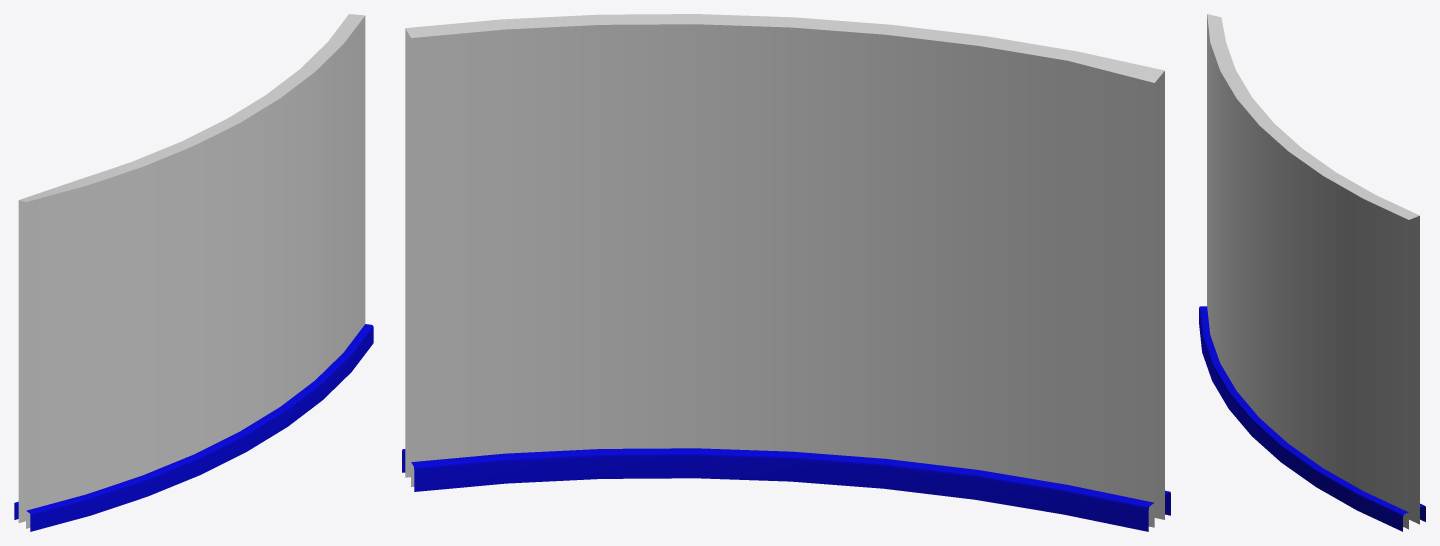
Rendered from CurvedWallLargeHalf.fbx.
3 renders of one model, left to right at view 1: azimuth 30°, elevation 25°; view 2: azimuth 150°, elevation 25°; view 3: azimuth 270°, elevation 25°, orthographic. The views are drawn at different scales.
Visible parts, largest first — view 1: Wall, Trim; view 2: Wall, Trim; view 3: Wall, Trim.
Part boxes in pixels (<box>): Wall: <box>18,14,365,528</box>; Trim: <box>14,324,373,531</box>; Wall: <box>405,14,1164,527</box>; Trim: <box>402,448,1170,531</box>; Wall: <box>1207,14,1419,529</box>; Trim: <box>1199,306,1425,531</box>.
Bounding box in the file's own units: 17.36 × 12.01 × 7.98.
